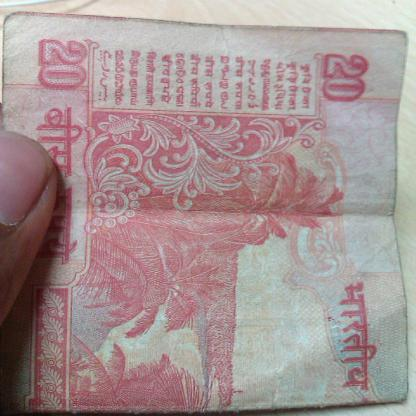Old20Back: (6, 20, 407, 408)
